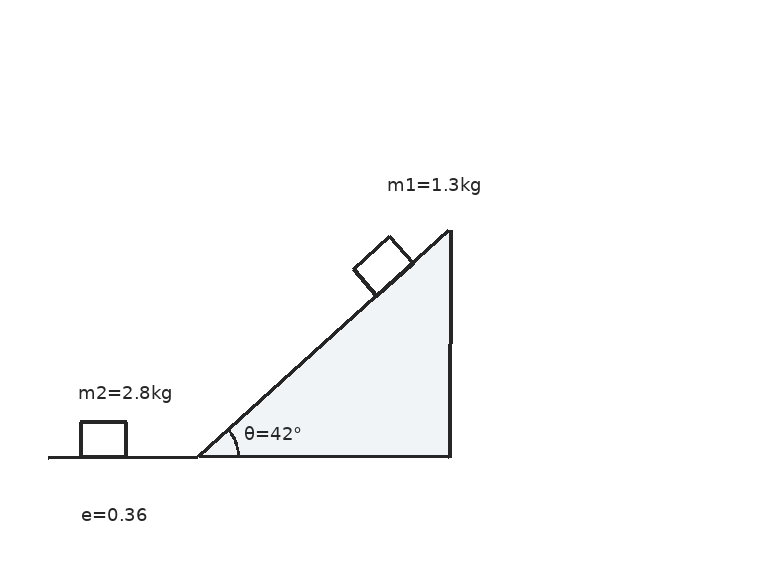block: (350, 234, 414, 297), (78, 420, 128, 458)
ramp: (196, 228, 450, 458)
